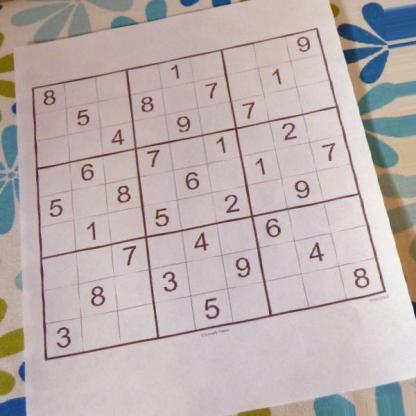sudoku: (30, 23, 388, 364)
